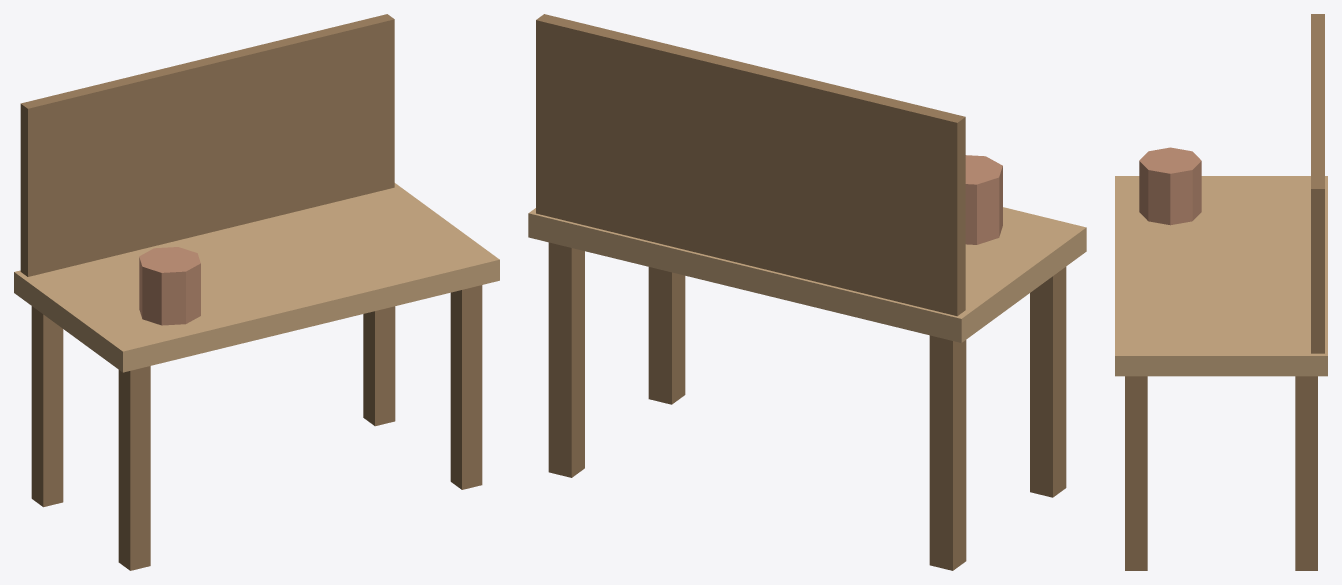
File: SM_WorkbenchT1.fbx
3 views of the same model, side by side, from view 1: azimuth 30°, elevation 25°; view 2: azimuth 150°, elevation 25°; view 3: azimuth 270°, elevation 25° (orthographic). The views are drawn at different scales.
Visible parts, largest first — view 1: SM_WorkbenchT1; view 2: SM_WorkbenchT1; view 3: SM_WorkbenchT1.
Part boxes in pixels (left/top/right/bottom): SM_WorkbenchT1: left=14, top=14, right=499, bottom=570; SM_WorkbenchT1: left=528, top=14, right=1086, bottom=570; SM_WorkbenchT1: left=1115, top=14, right=1327, bottom=570.
Bounding box in the file's own units: 15000 × 7500 × 15000.
